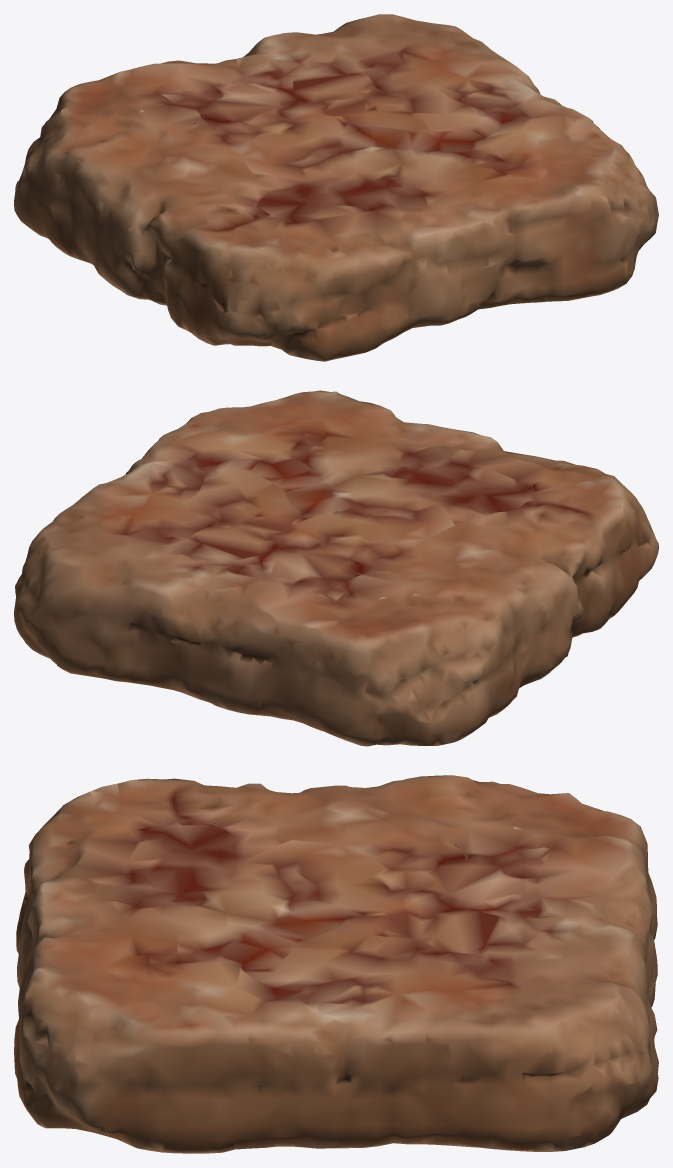
Rendered from jaegerin.glb.
3 views of the same model, one above another, from view 1: azimuth 30°, elevation 25°; view 2: azimuth 150°, elevation 25°; view 3: azimuth 270°, elevation 25° (orthographic). The views are drawn at different scales.
Bounding box in the file's own units: 1.9 × 0.4242 × 1.89.
